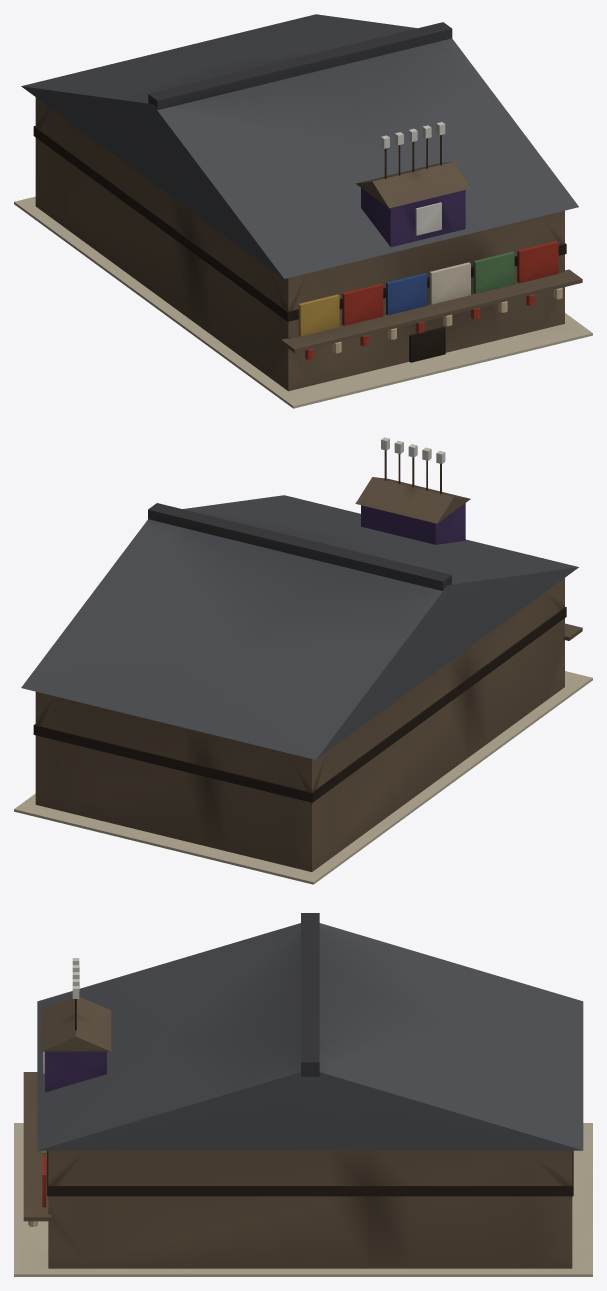
File: nakamura-za.glb
3 views of the same model, one above another, from view 1: azimuth 30°, elevation 25°; view 2: azimuth 150°, elevation 25°; view 3: azimuth 270°, elevation 25° (orthographic). The views are drawn at different scales.
Parts seen in each view (by area): view 1: p1_theatre, p0_ground, p2_billboards, p3_drum tower; view 2: p1_theatre, p0_ground, p3_drum tower; view 3: p1_theatre, p0_ground, p3_drum tower.
Part boxes in pixels (left/top/right/bottom): p1_theatre: left=21, top=14, right=582, bottom=391; p0_ground: left=14, top=196, right=592, bottom=408; p2_billboards: left=298, top=241, right=562, bottom=359; p3_drum tower: left=356, top=122, right=470, bottom=247; p1_theatre: left=21, top=495, right=582, bottom=871; p0_ground: left=14, top=671, right=592, bottom=884; p3_drum tower: left=355, top=437, right=470, bottom=544; p1_theatre: left=23, top=913, right=583, bottom=1268; p0_ground: left=14, top=1123, right=592, bottom=1276; p3_drum tower: left=41, top=958, right=111, bottom=1092.
Size of the model in its own units: 26 by 18.22 by 42.
